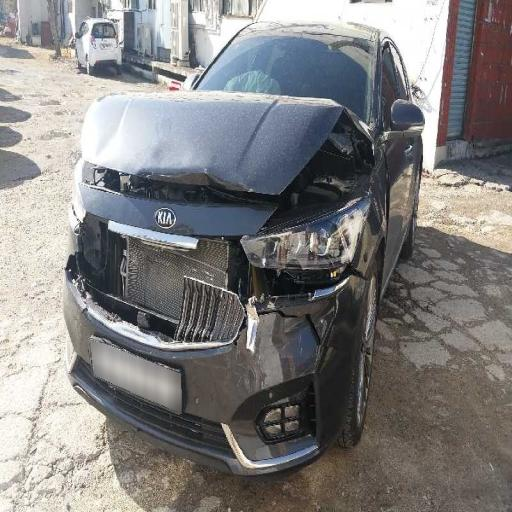broken: (79, 97, 378, 472)
